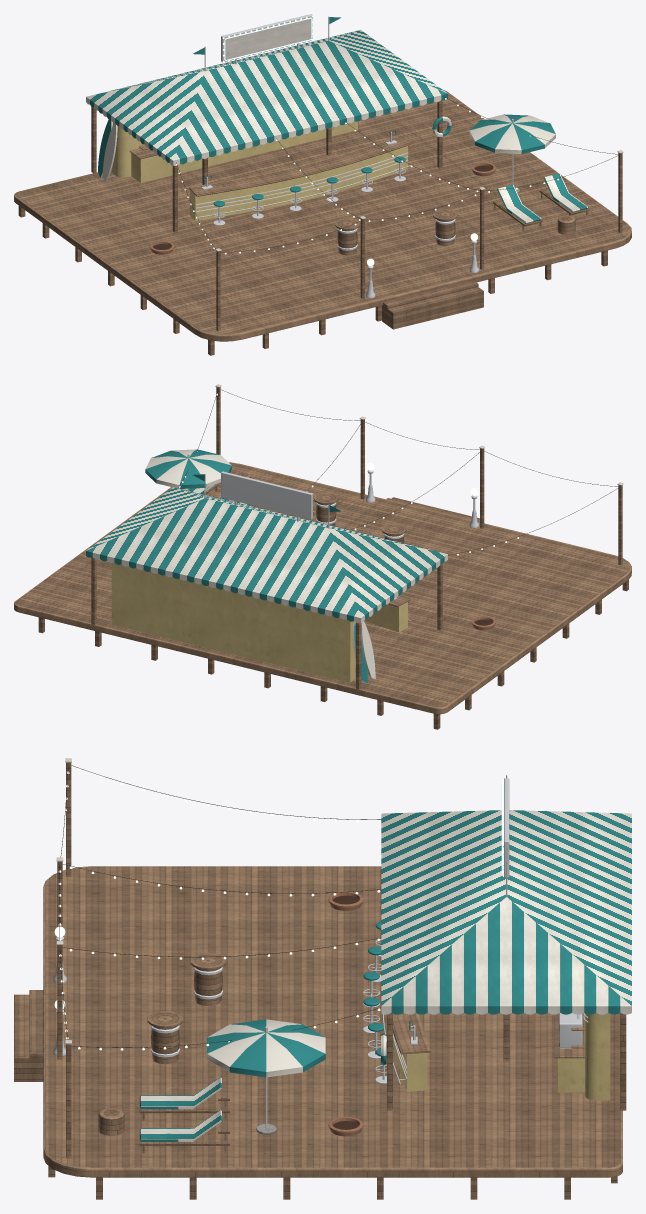
The model's file is plot_beach_bar.gltf.
The picture shows the model from 3 angles, top to bottom: view 1: azimuth 30°, elevation 25°; view 2: azimuth 150°, elevation 25°; view 3: azimuth 270°, elevation 25°; orthographic projection. The views are drawn at different scales.
Visible parts, largest first — view 1: plot_beach_bar_mesh, sign_face; view 2: plot_beach_bar_mesh; view 3: plot_beach_bar_mesh.
Part boxes in pixels (x1=…): plot_beach_bar_mesh: x1=14, y1=14, x2=631, y2=355; sign_face: x1=223, y1=16, x2=312, y2=60; plot_beach_bar_mesh: x1=14, y1=384, x2=631, y2=729; plot_beach_bar_mesh: x1=14, y1=758, x2=631, y2=1199.
Bounding box in the file's own units: 16.68 × 6.17 × 14.37.
Materials: 11 (6 with a texture image).
